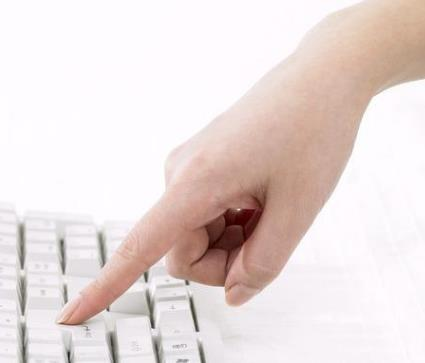up: (54, 63, 370, 329)
